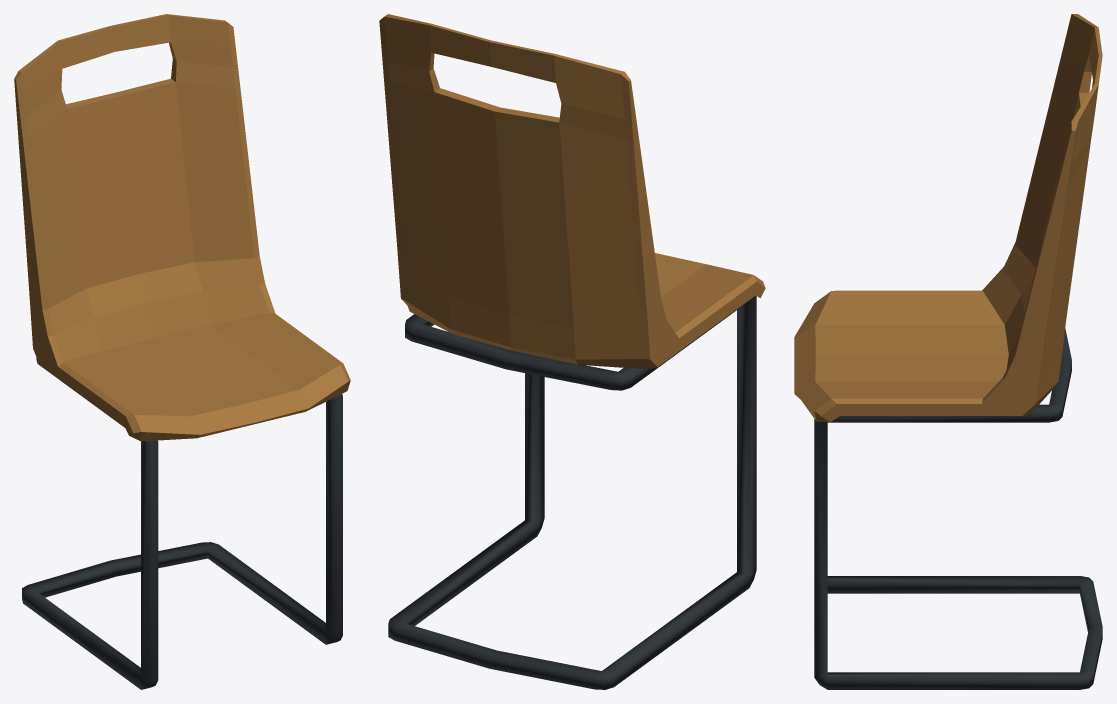
The model's file is Computer Seat.fbx.
3 renders of one model, left to right at view 1: azimuth 30°, elevation 25°; view 2: azimuth 150°, elevation 25°; view 3: azimuth 270°, elevation 25°, orthographic. The views are drawn at different scales.
Visible parts, largest first — view 1: computerSeat; view 2: computerSeat; view 3: computerSeat.
Part boxes in pixels (box(x1,y1,x2,y2)): computerSeat: box(14, 14, 350, 689); computerSeat: box(379, 14, 765, 689); computerSeat: box(794, 14, 1102, 689).
Size of the model in its own units: 0.4 by 0.96 by 0.46.
